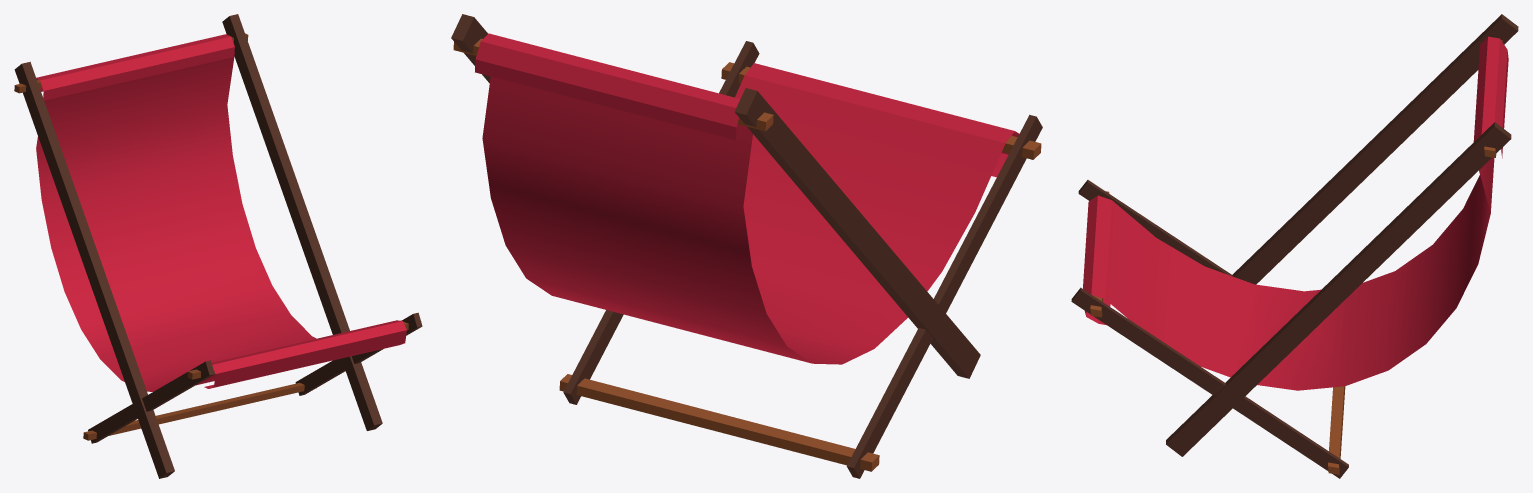
The model's file is Sunchair_1.FBX.
The picture shows the model from 3 angles, left to right: view 1: azimuth 30°, elevation 25°; view 2: azimuth 150°, elevation 25°; view 3: azimuth 270°, elevation 25°; orthographic projection. The views are drawn at different scales.
Visible parts, largest first — view 1: lejak1; view 2: lejak1; view 3: lejak1.
Boxes of the visible parts, x1=… form: lejak1: x1=14, y1=14, x2=422, y2=478; lejak1: x1=451, y1=14, x2=1042, y2=478; lejak1: x1=1071, y1=14, x2=1518, y2=478.
Bounding box in the file's own units: 7.73 × 10.35 × 11.8.
